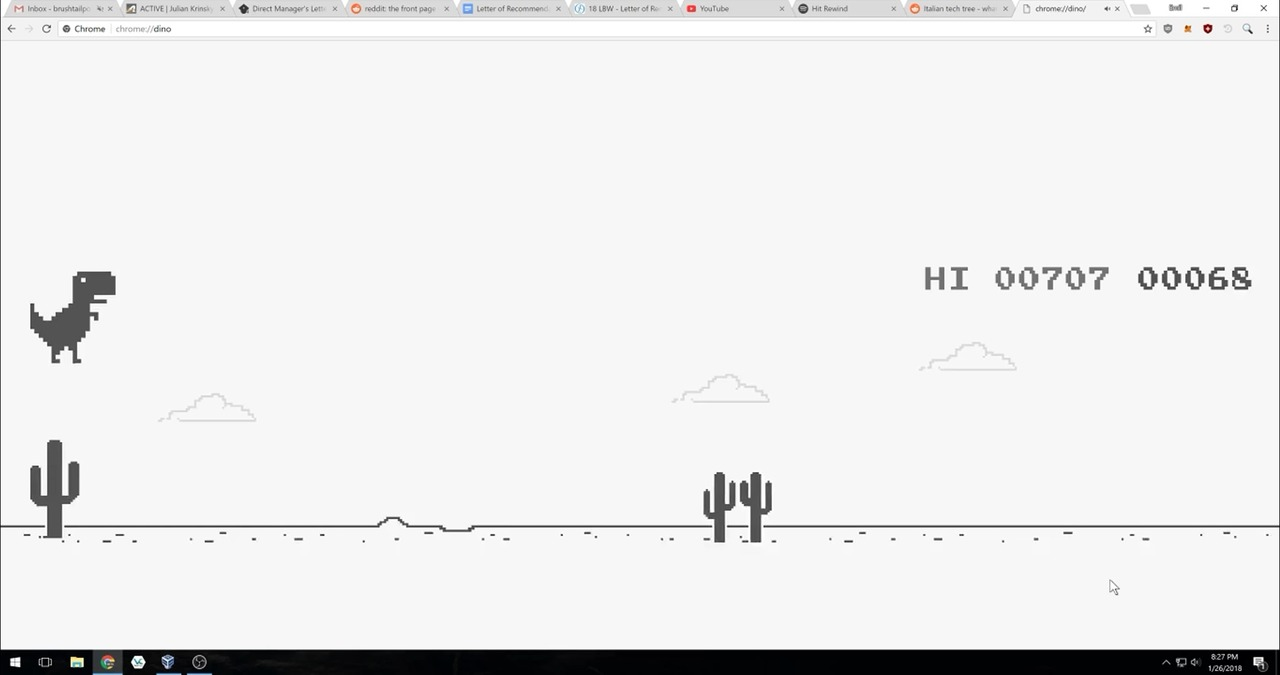cactus: (699, 467, 776, 549), (28, 435, 82, 543)
dinosaur: (24, 262, 120, 368)
